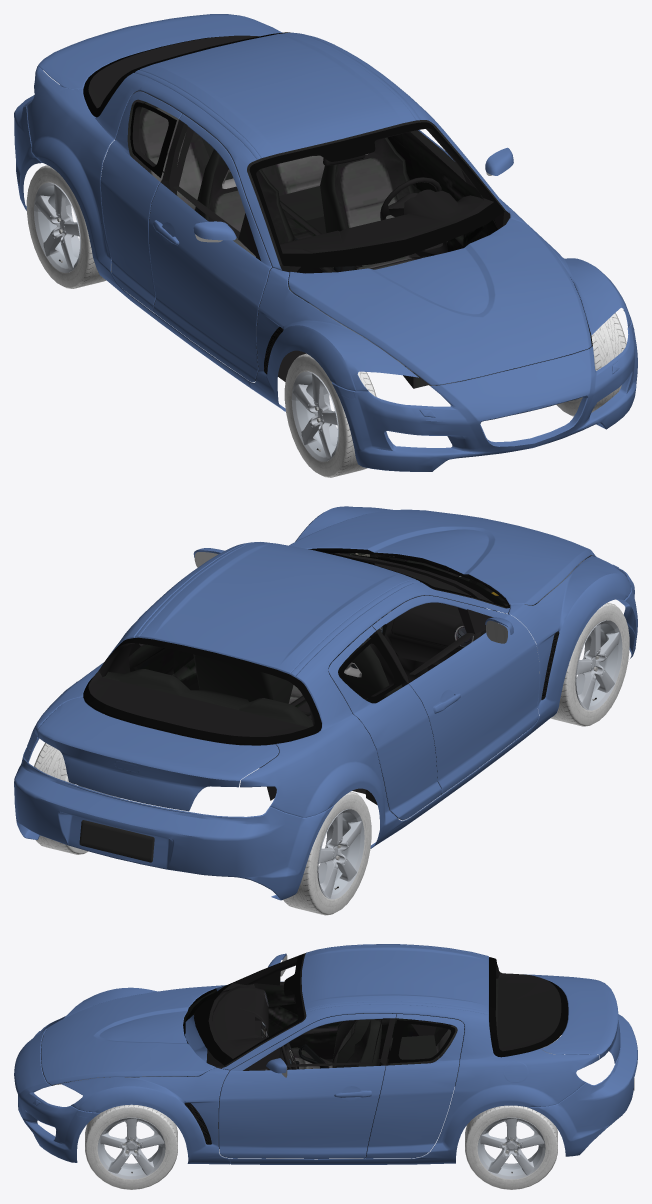
3 views of the same model, one above another, from view 1: azimuth 30°, elevation 25°; view 2: azimuth 150°, elevation 25°; view 3: azimuth 270°, elevation 25° (orthographic). The views are drawn at different scales.
Parts seen in each view (by area): view 1: RX8:lod10, RX8:lod13, RX8:lod14, RX8:lod0, RX8:lod11, RX8:lod16; view 2: RX8:lod10, RX8:lod13, RX8:lod0, RX8:lod11, RX8:lod14, RX8:lod12; view 3: RX8:lod10, RX8:lod13, RX8:lod0, RX8:lod11, RX8:lod14.
Boxes of the visible parts, <box> form: RX8:lod10: <box>14,14,637,471</box>; RX8:lod13: <box>88,35,592,388</box>; RX8:lod14: <box>83,32,504,267</box>; RX8:lod0: <box>26,165,626,477</box>; RX8:lod11: <box>34,182,579,461</box>; RX8:lod16: <box>247,120,505,265</box>; RX8:lod10: <box>14,506,637,900</box>; RX8:lod13: <box>88,548,591,818</box>; RX8:lod0: <box>34,602,629,915</box>; RX8:lod11: <box>73,620,622,899</box>; RX8:lod14: <box>83,551,507,745</box>; RX8:lod12: <box>79,820,154,862</box>; RX8:lod10: <box>14,944,637,1164</box>; RX8:lod13: <box>40,956,561,1157</box>; RX8:lod0: <box>85,1040,557,1189</box>; RX8:lod11: <box>97,1047,545,1179</box>; RX8:lod14: <box>194,954,568,1077</box>.
Size of what is drawn, in the model's own units: 1.91 by 1.32 by 4.43.
Materials: 9 (5 with a texture image).
